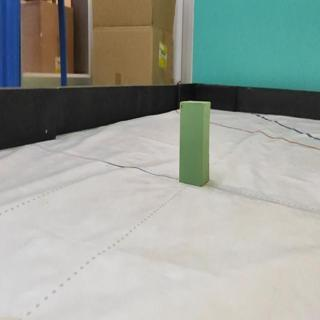greenbox: (179, 100, 212, 188)
